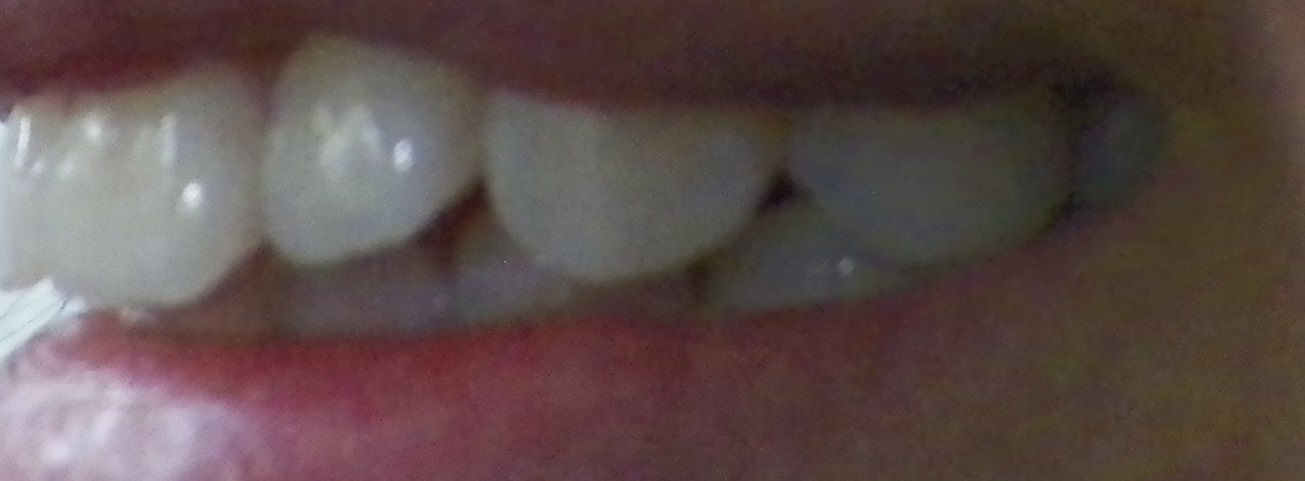boca: (1, 47, 1160, 335)
